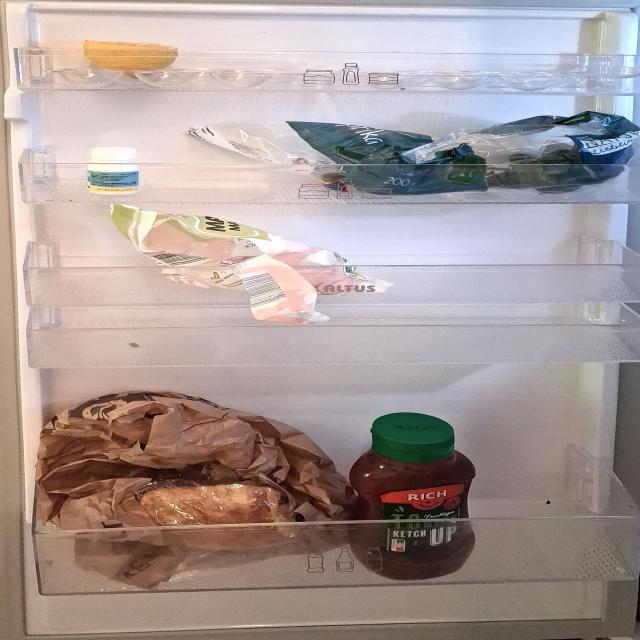Lemon: (81, 36, 180, 74)
Marshmallow: (101, 204, 394, 328)
Medicine: (82, 146, 145, 196)
Paprika: (192, 111, 638, 192)
bread: (38, 390, 327, 566)
ketchup: (343, 403, 486, 586)
